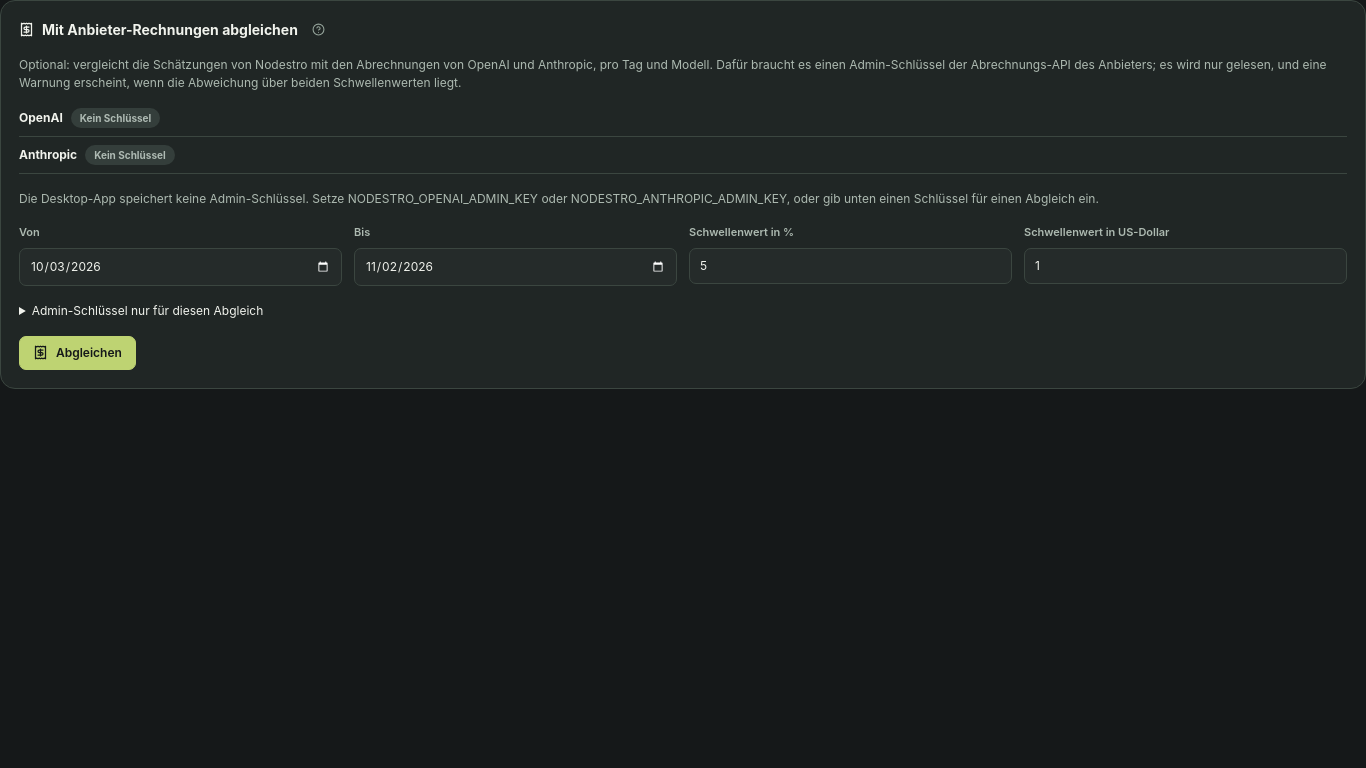
Test: ReconciliationPanel › sends a one-off key without keeping it and shows deviating days
Check: the text "speichert keine Admin-Schlüssel" is shown, box [19, 191, 1099, 206]
Click the heading "Admin-Schlüssel nur für diesen Abgleich" at (148,310), box [32, 302, 263, 318]
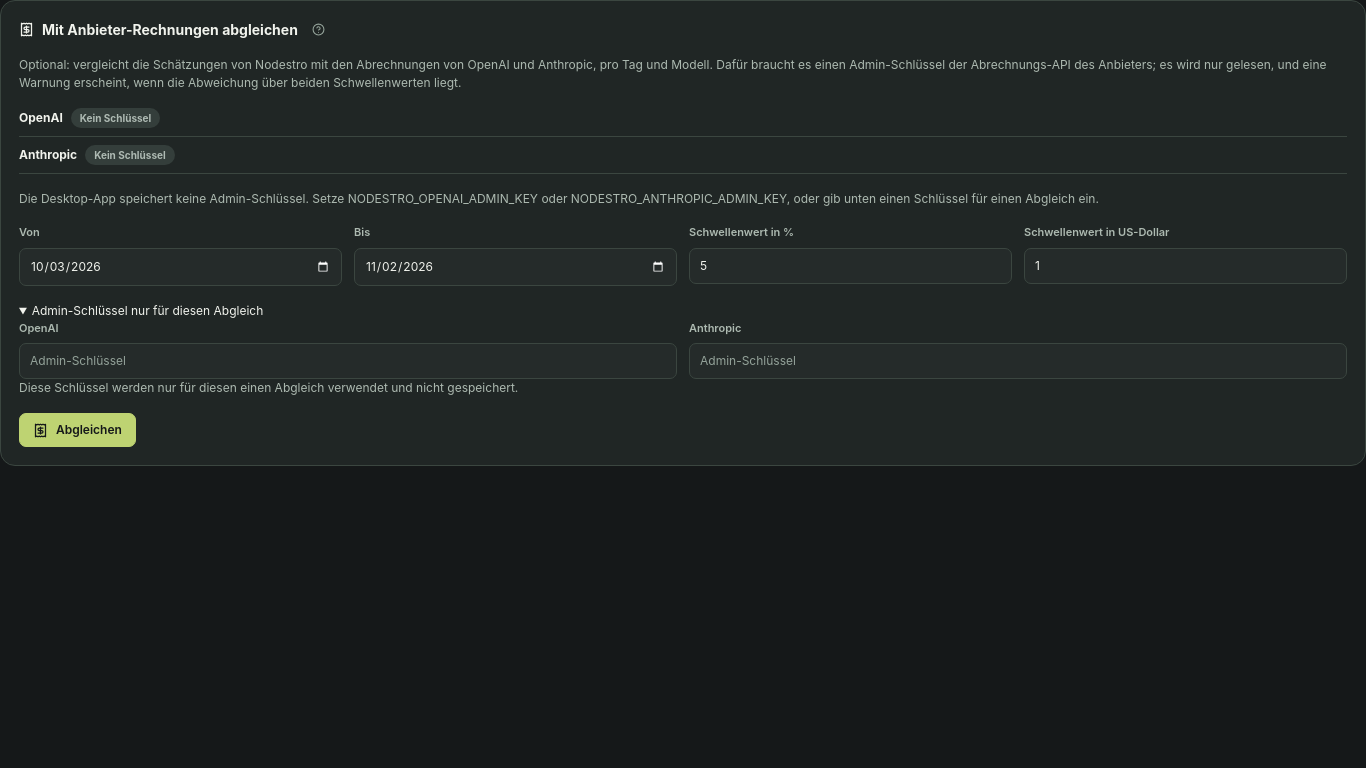
Type "sk-admin-123456" into the password field labelled "OpenAI" at (348,361), box [19, 343, 677, 379]
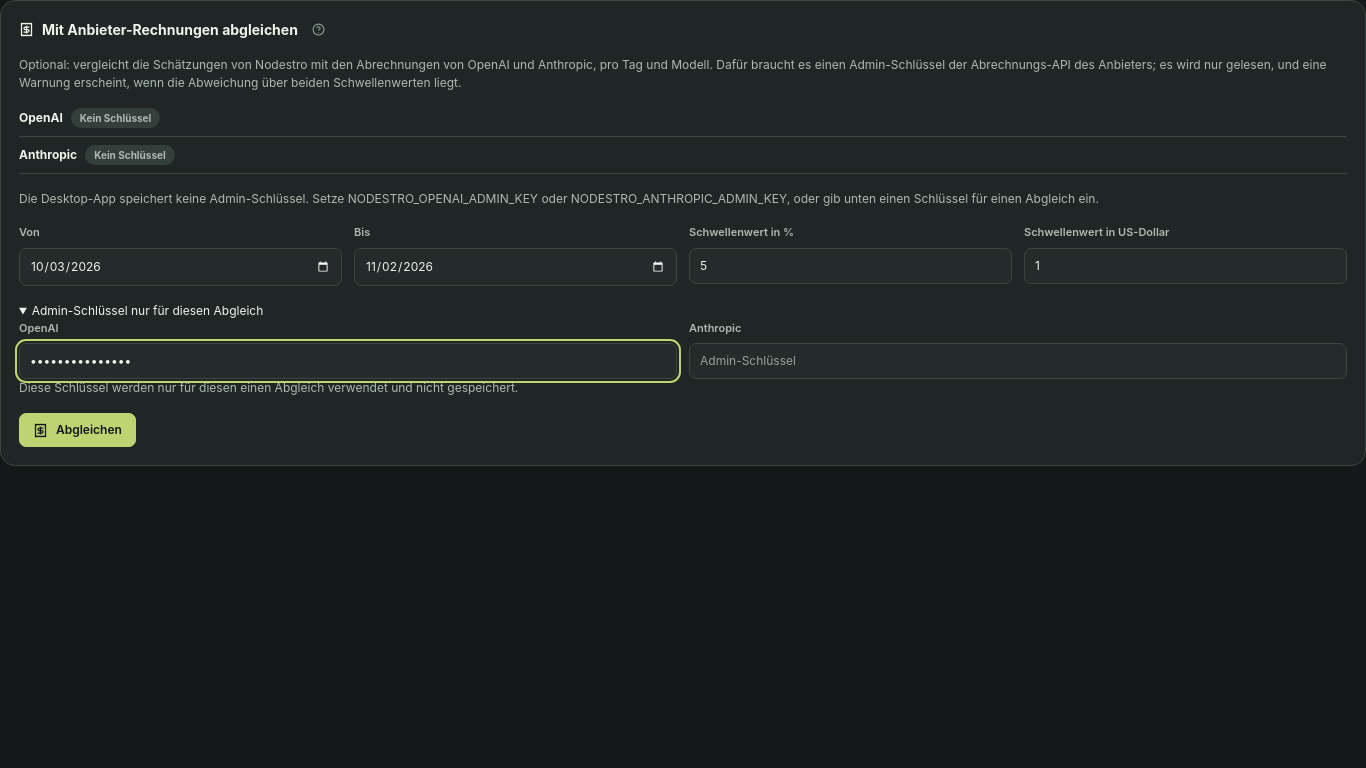
Click the button "Abgleichen" at (77,430), box [19, 413, 136, 447]
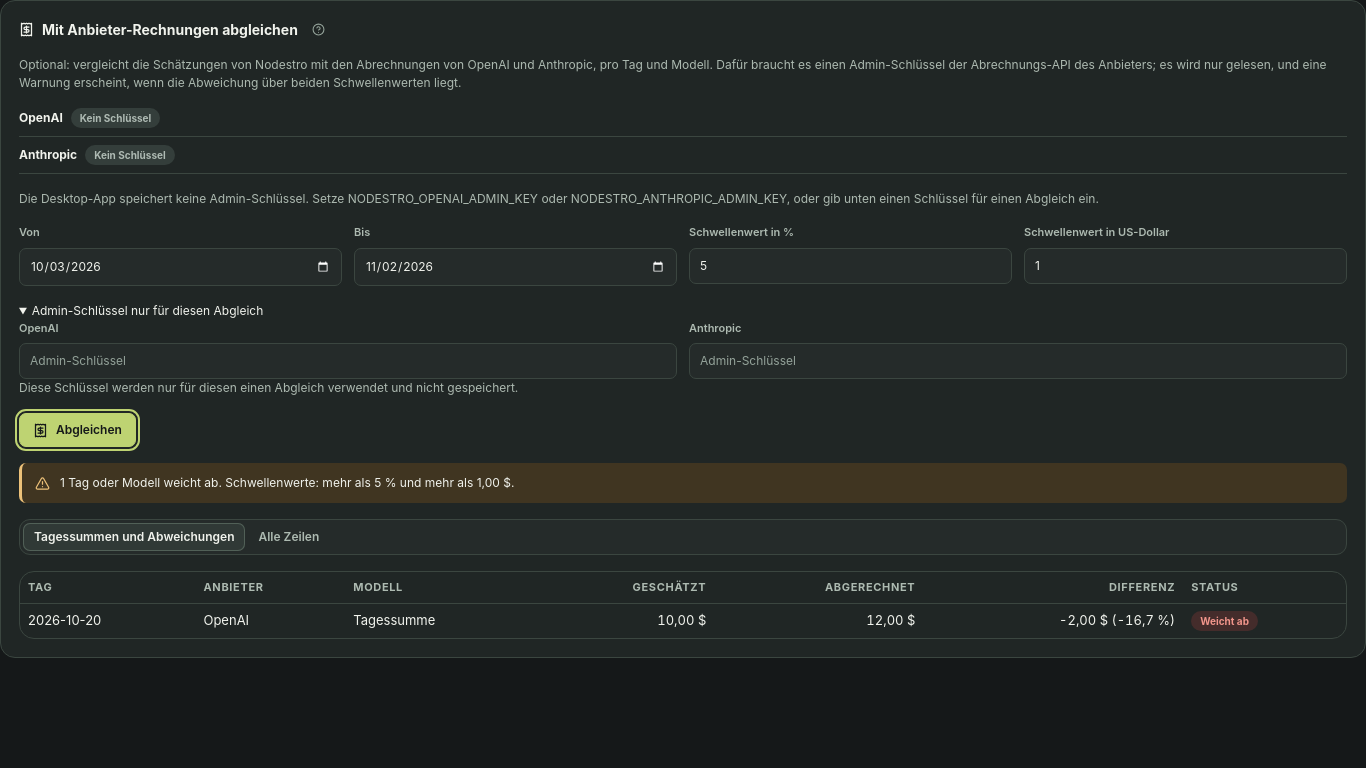
Check: the text "1 Tag oder Modell weicht ab." is shown, box [60, 475, 222, 490]
Check: the text "Weicht ab" is shown, box [1191, 610, 1258, 630]
Check: the password field labelled "OpenAI" is empty, box [19, 343, 677, 379]
